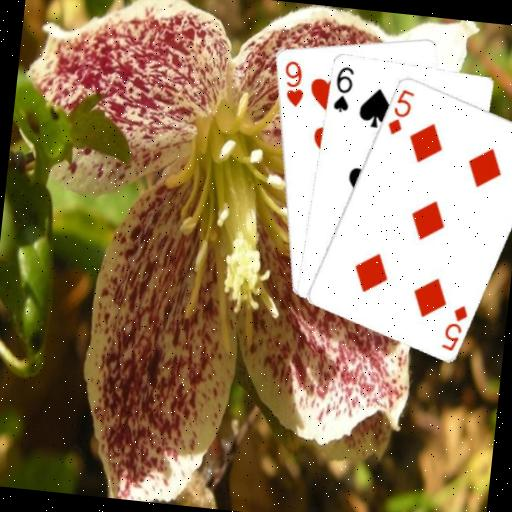5D: (383, 84, 417, 138), (438, 299, 471, 354)
6S: (329, 62, 356, 115)
9H: (278, 57, 309, 109)
